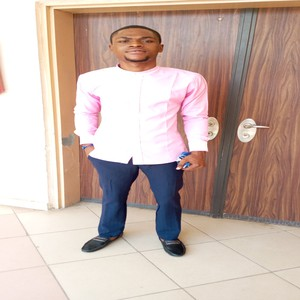Fulokoja_male_student: (82, 27, 187, 256)
